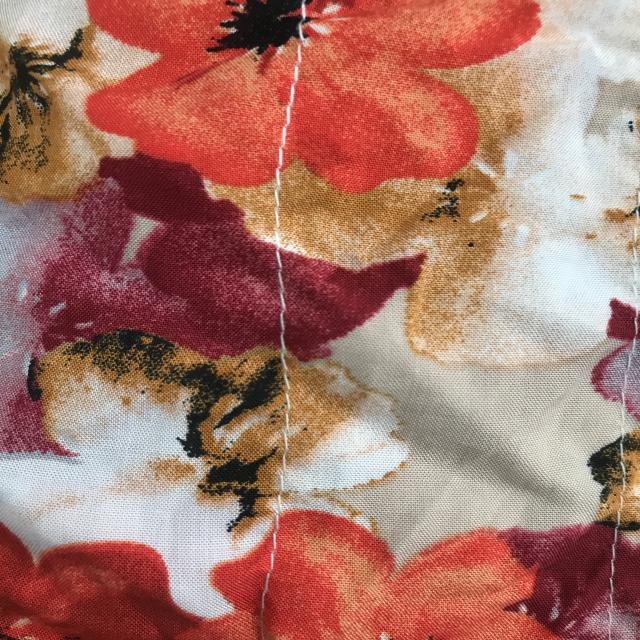good: (275, 46, 307, 158), (269, 253, 301, 351), (278, 390, 302, 498)
